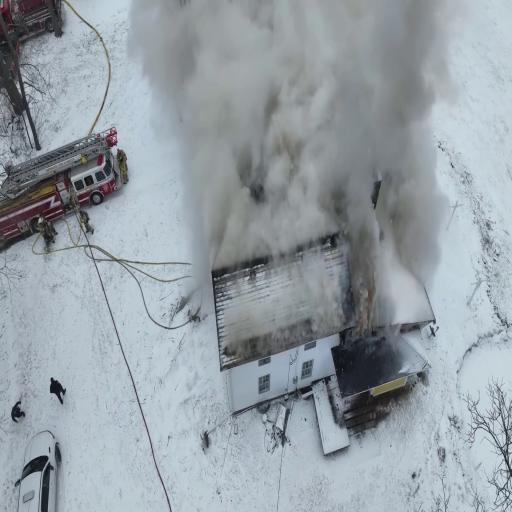smoke: (331, 148, 366, 328)
